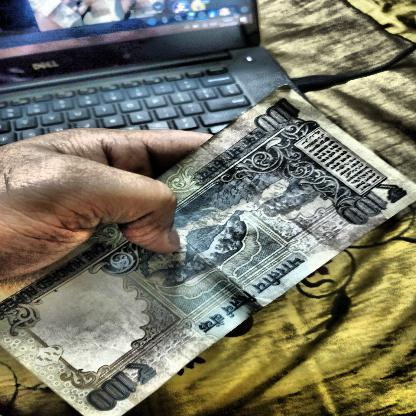Rs100: (79, 355, 163, 416), (335, 175, 414, 232), (248, 94, 309, 140)
